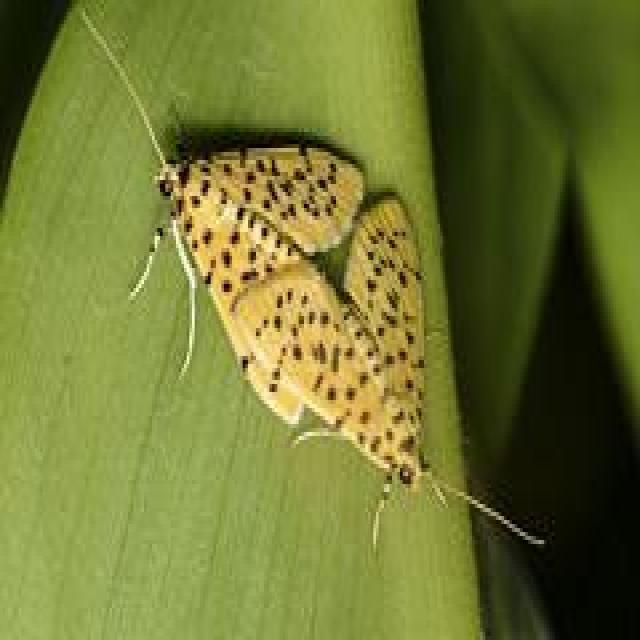peach borer: (138, 131, 440, 519)
